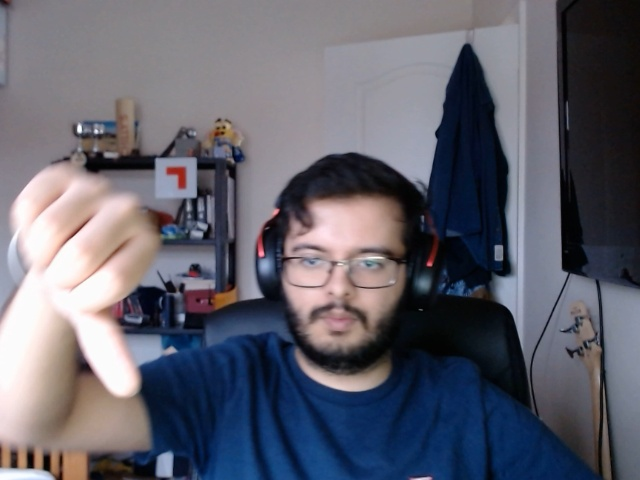Thumbs down: (9, 153, 184, 428)
